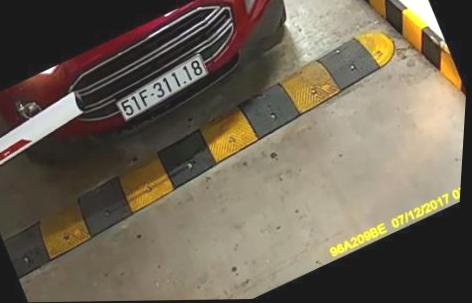License_Plate: (107, 56, 212, 127)
